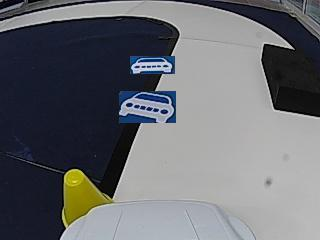block: (262, 43, 318, 116)
cone: (64, 170, 112, 204)
